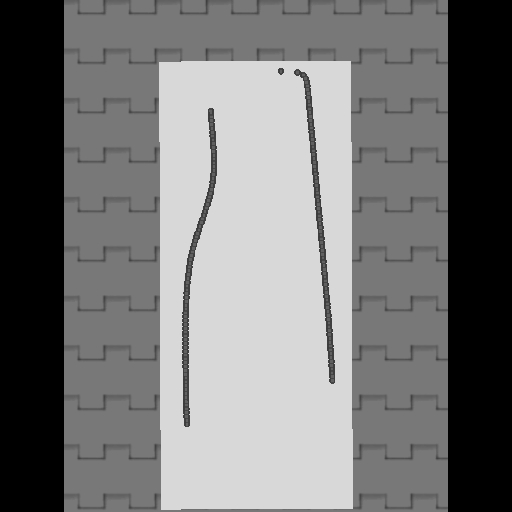Defect: (182, 383, 336, 494)
